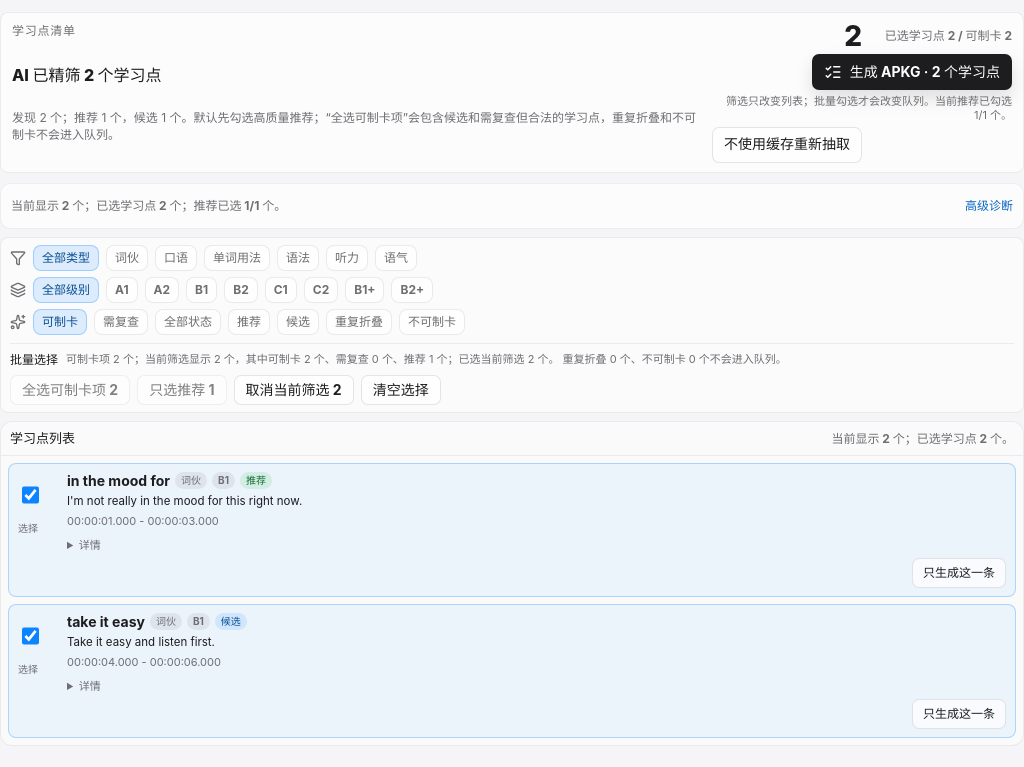
Scenario: LearningPointOverview › supports removing a learning point from the confirmation queue without changing row selection
The image size is (1024, 767).
What coordinates should you click on to do the following:
click the button "生成 APKG · 2 个学习点"
I would click on:
 (912, 72)
Its box is top-left (812, 54), bottom-right (1012, 90).
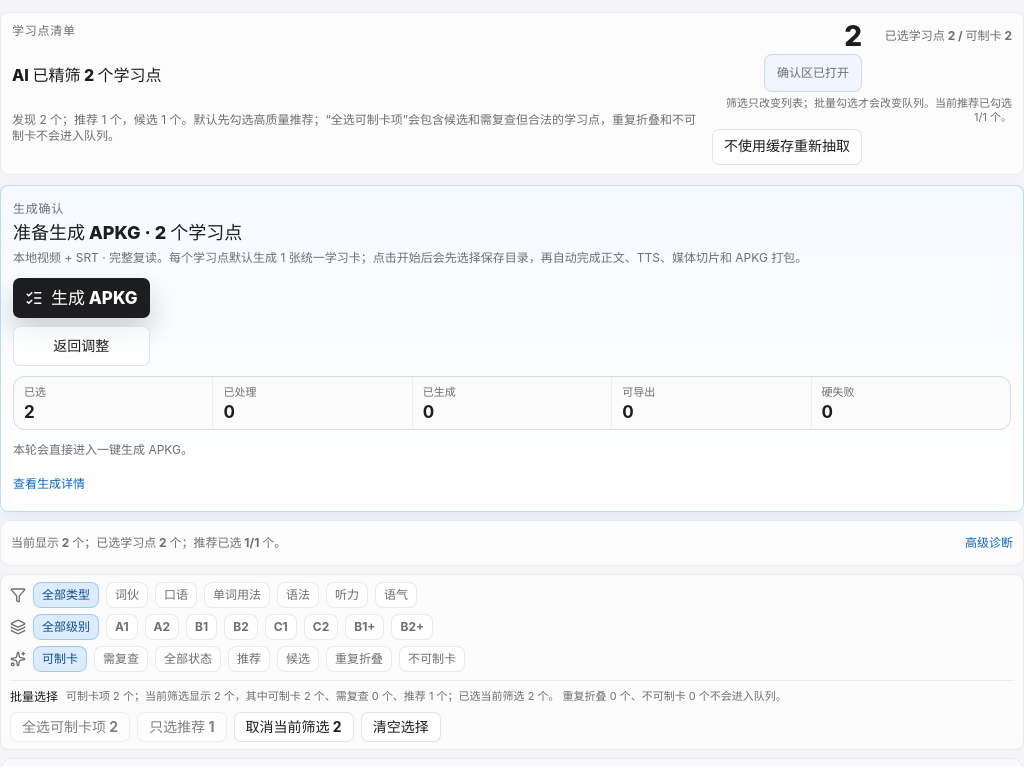
Expected: the heading "准备生成 APKG · 2 个学习点" is shown, top-left (13, 222), bottom-right (242, 243)
What coordinates should you click on to do the following:
click the button "查看生成详情"
I would click on:
 (49, 484)
Its box is top-left (13, 470), bottom-right (85, 498).
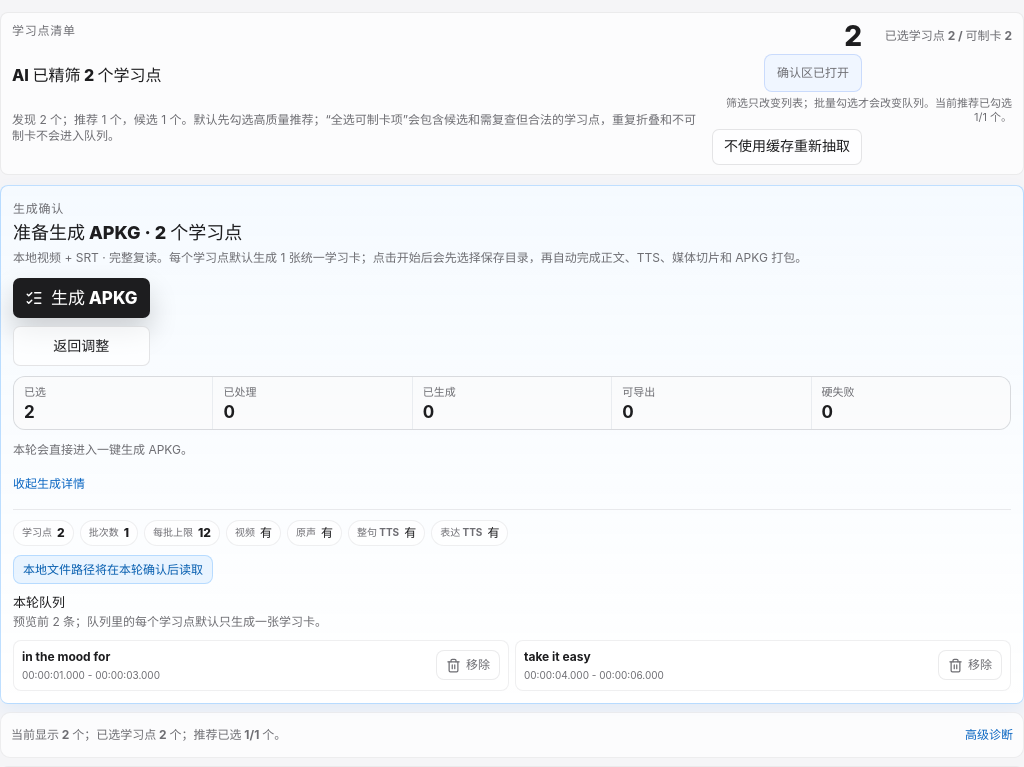
What coordinates should you click on to do the following:
click the button with aria-label "从生成队列移除 take it easy"
I would click on:
 (970, 665)
Its box is top-left (938, 650), bottom-right (1002, 680).
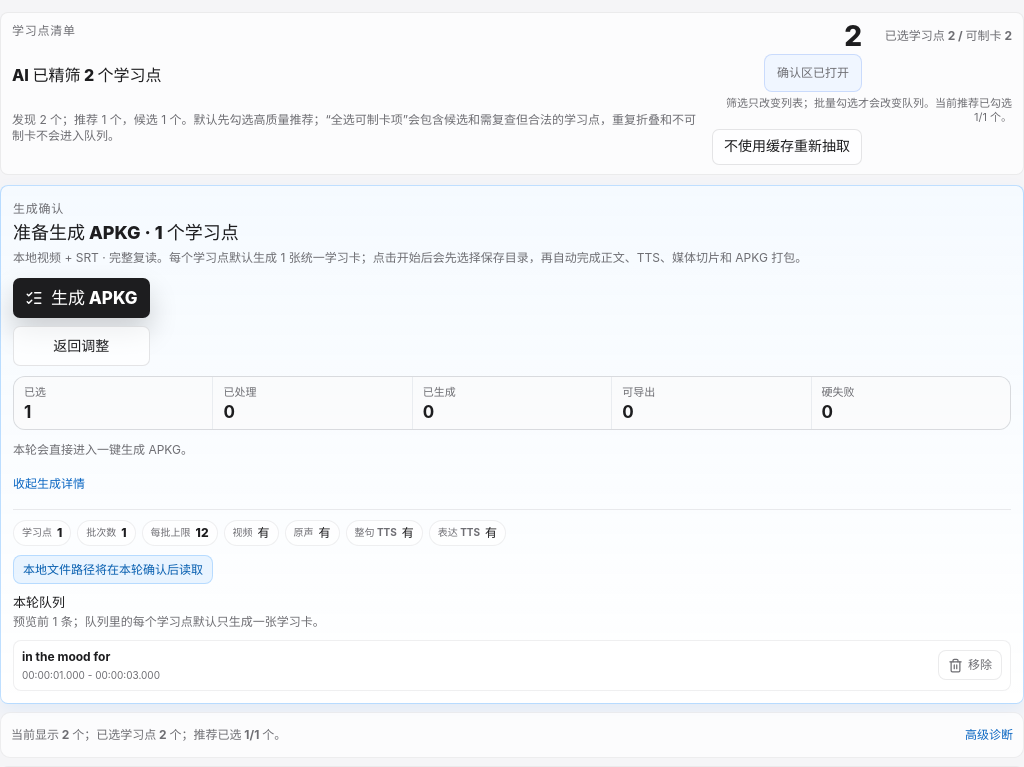
Expected: the text "确认区已打开" is shown, top-left (764, 54), bottom-right (862, 92)
Expected: the heading "准备生成 APKG · 1 个学习点" is shown, top-left (13, 222), bottom-right (239, 243)
Expected: the heading "生成 APKG · 2 个学习点" is gone
